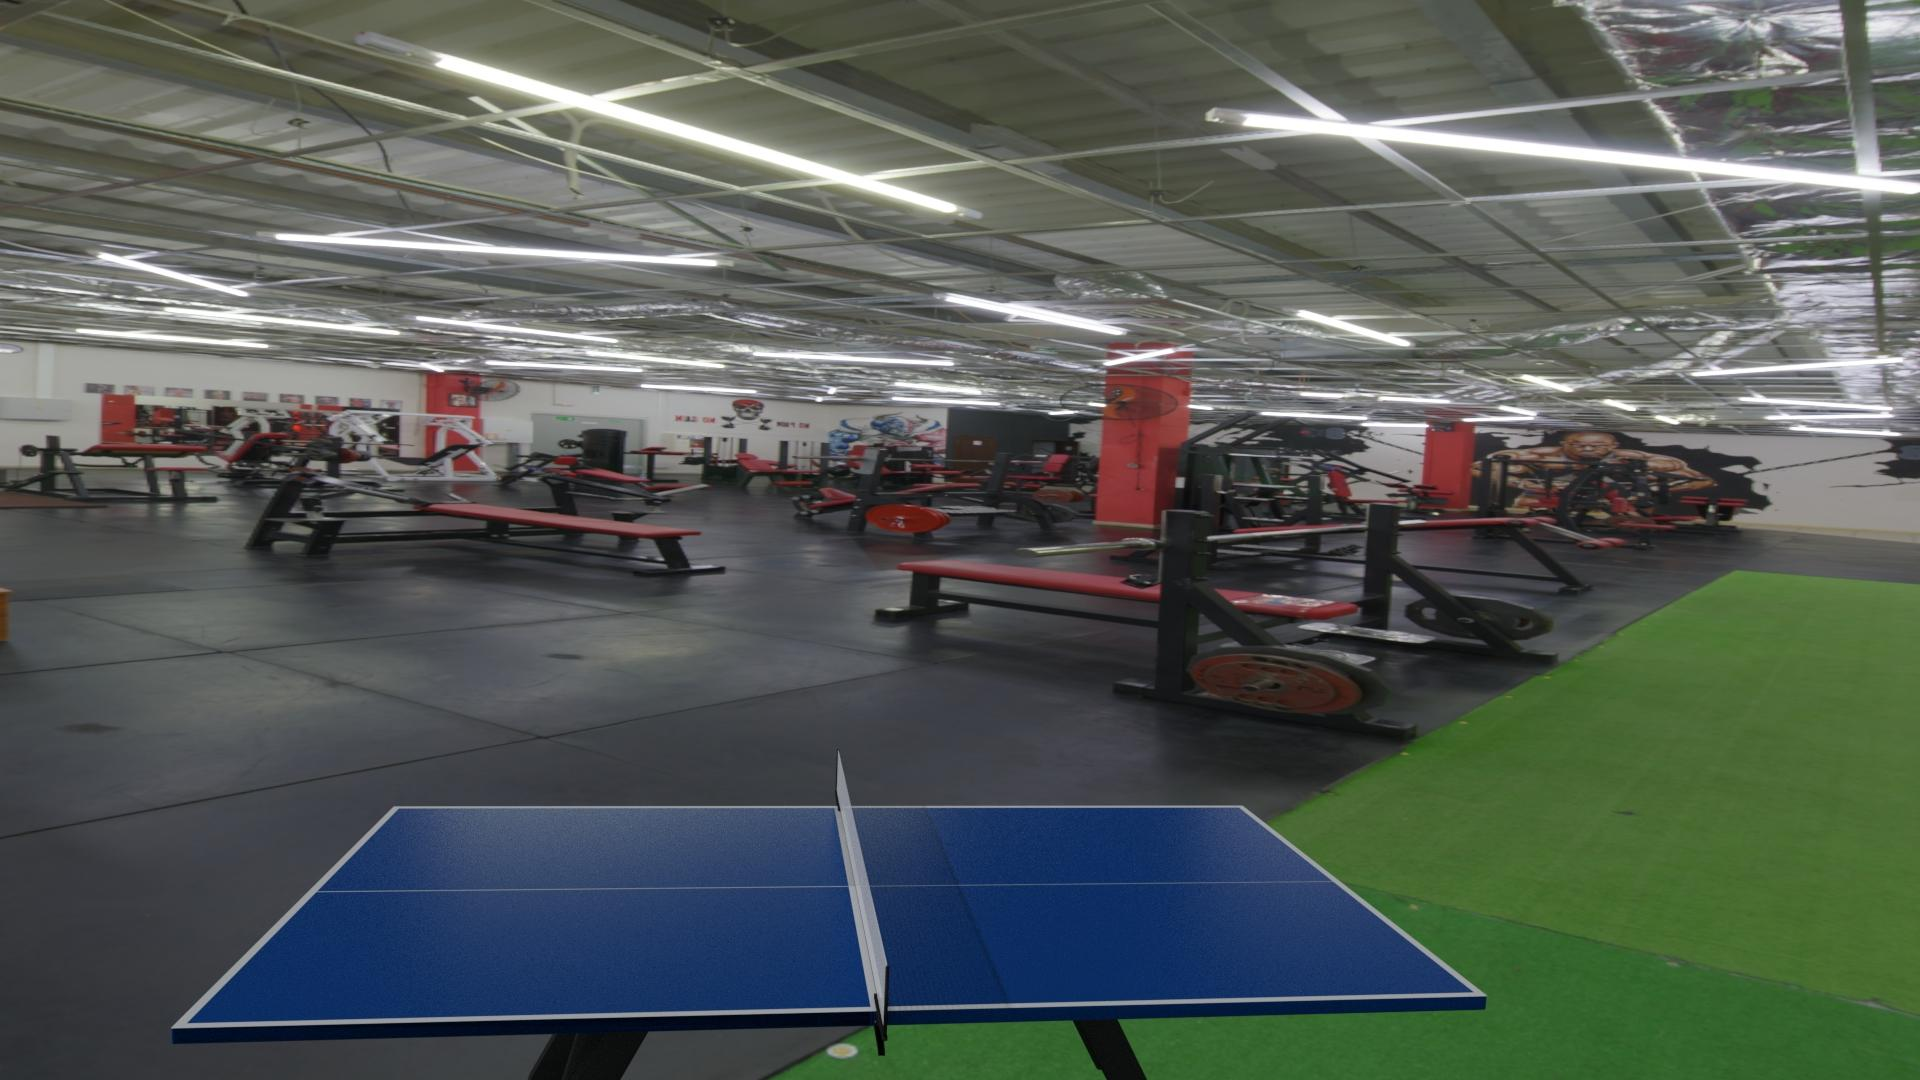table: (186, 807, 1474, 1023)
